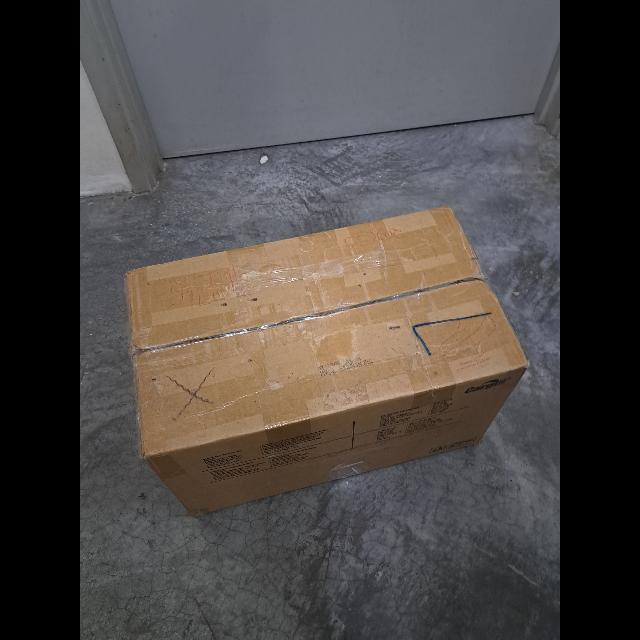papelão: (126, 206, 528, 508)
